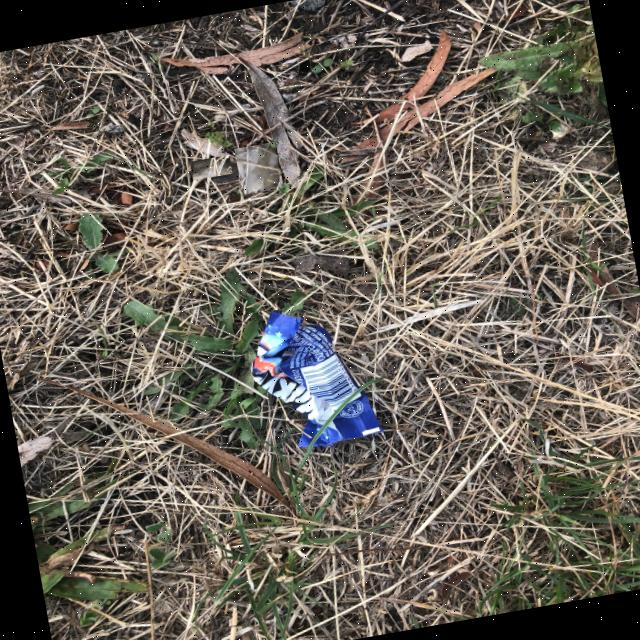Other plastic: (251, 310, 382, 447)
Plastic film: (237, 147, 278, 192), (193, 159, 214, 180), (218, 159, 230, 174)
